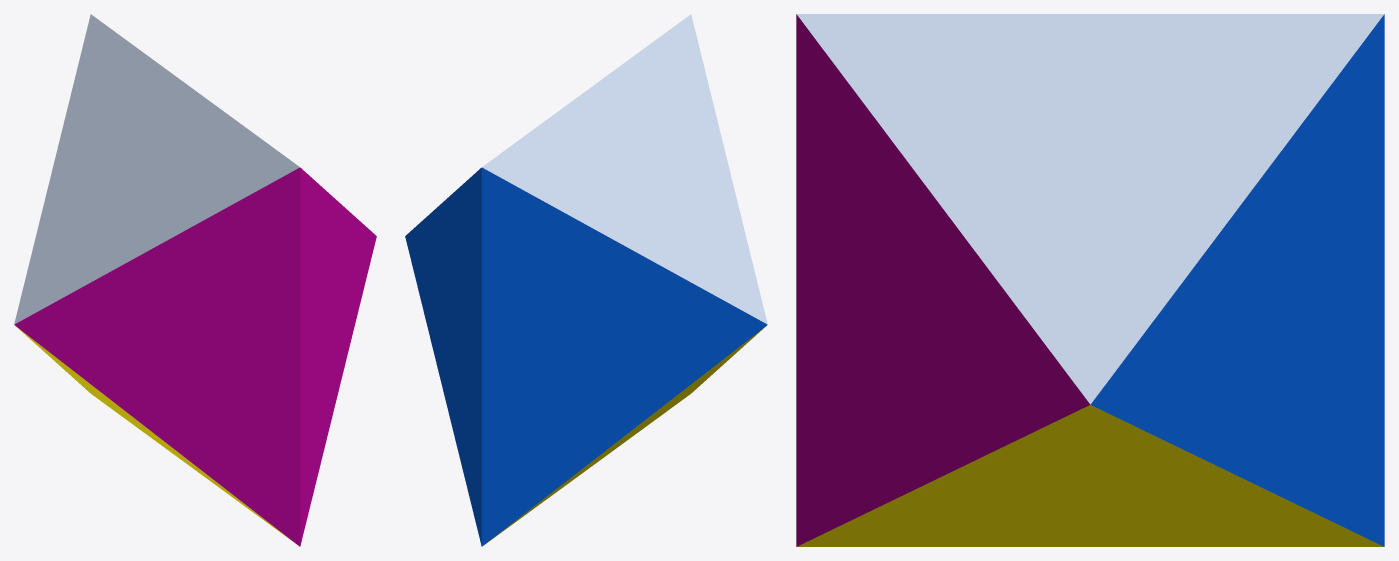
Rendered from TetragonalDisphenoidal_4_4.glb.
The picture shows the model from 3 angles, left to right: view 1: azimuth 30°, elevation 25°; view 2: azimuth 150°, elevation 25°; view 3: azimuth 270°, elevation 25°; orthographic projection. The views are drawn at different scales.
Size of the model in its own units: 4 by 4 by 4.
